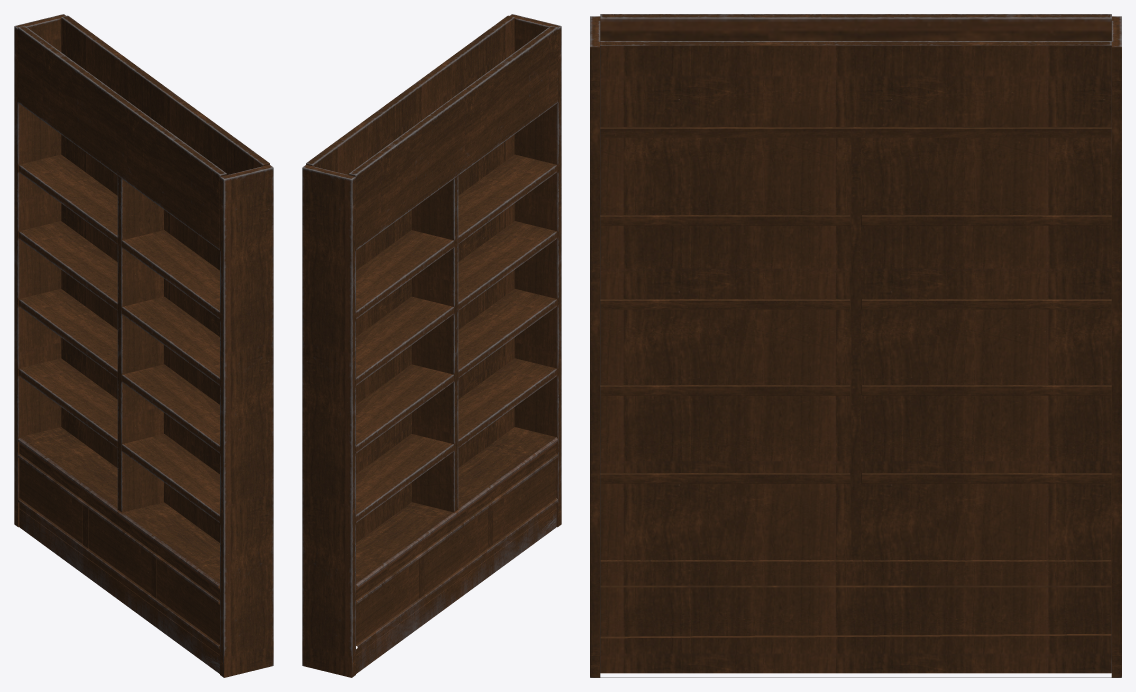
3 views of the same model, side by side, from view 1: azimuth 30°, elevation 25°; view 2: azimuth 150°, elevation 25°; view 3: azimuth 270°, elevation 25° (orthographic). The views are drawn at different scales.
Parts seen in each view (by area): view 1: 书柜01; view 2: 书柜01; view 3: 书柜01.
Boxes of the visible parts, x1,y1,x2,y2 form: 书柜01: [14, 14, 273, 677]; 书柜01: [302, 14, 561, 677]; 书柜01: [590, 14, 1121, 677].
Bounding box in the file's own units: 288 × 2703 × 2057.
1 material, 1 textured.
